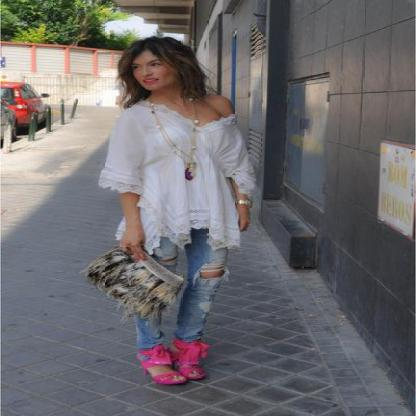bag: (87, 252, 183, 316)
pants: (124, 227, 224, 349)
shirt: (99, 102, 254, 269)
shoe: (140, 340, 208, 383)
